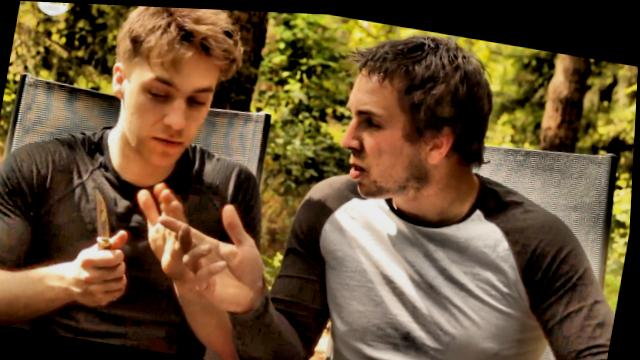knife: (63, 164, 150, 289)
